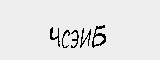Б: (90, 24, 108, 49)
И: (80, 27, 91, 49)
С: (60, 26, 71, 50)
Ч: (49, 24, 61, 49)
Э: (68, 27, 79, 51)
